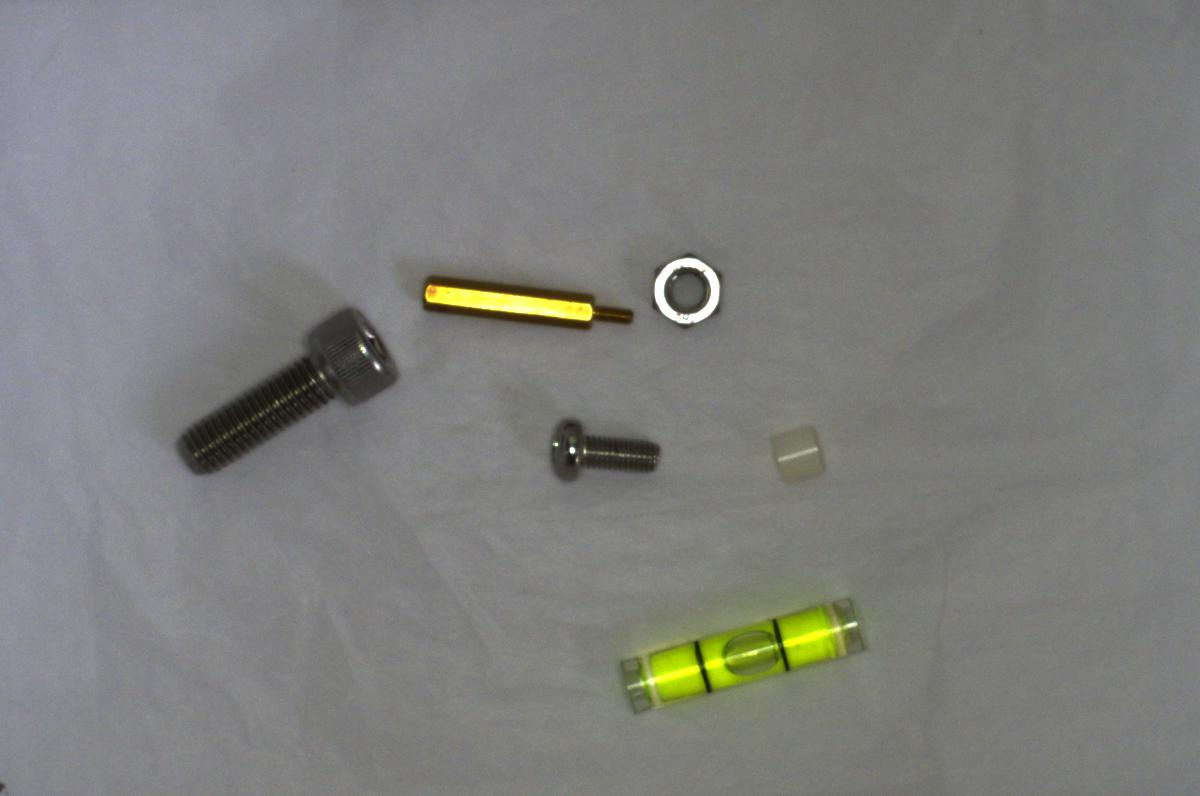Hexagon nut: (638, 241, 737, 335)
Hexagon pillar: (408, 274, 641, 332)
Hexagon screw: (165, 301, 401, 481)
Horizontal bubble: (607, 589, 878, 718)
Plastic cushion pillar: (759, 416, 835, 488)
Round head screw: (540, 415, 666, 487)
